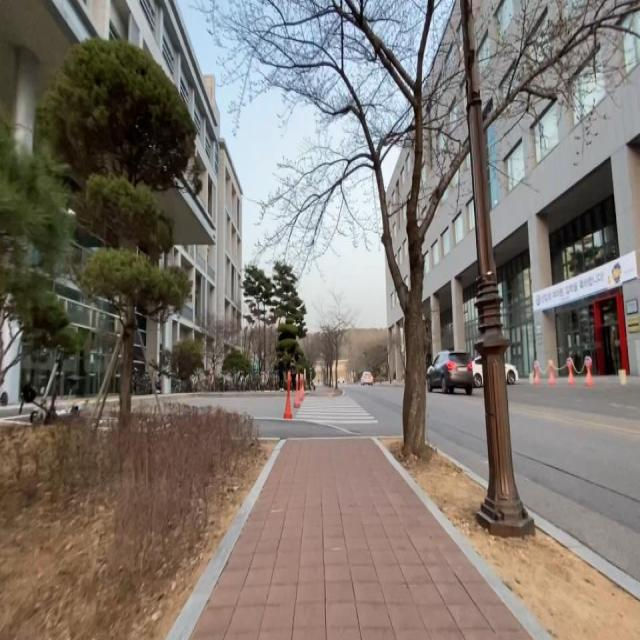sidewalk: (189, 419, 534, 640), (305, 385, 345, 398)
